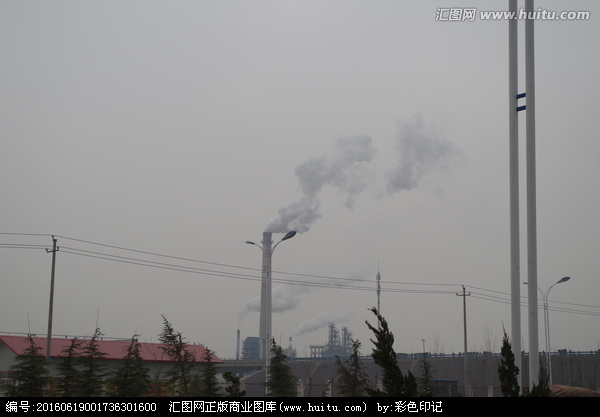dust: (241, 151, 354, 239)
